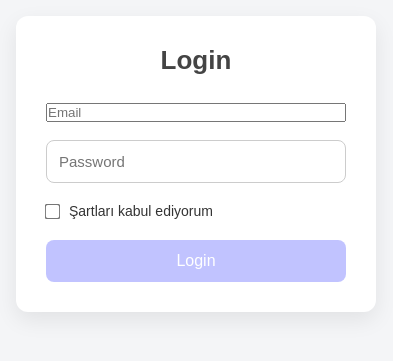
Test case: Login Form › Yanlış email girilirse
Type "test" into the field with test id "email" at (196, 113), box [46,103,346,122]
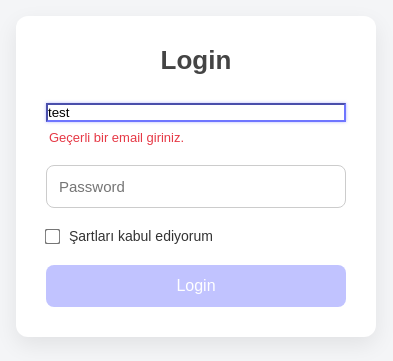
Expected: the button with test id "submit" is disabled, [46,265,346,307]
Expected: the text with test id "error-email" shows "Geçerli bir email", [49,130,184,145]
